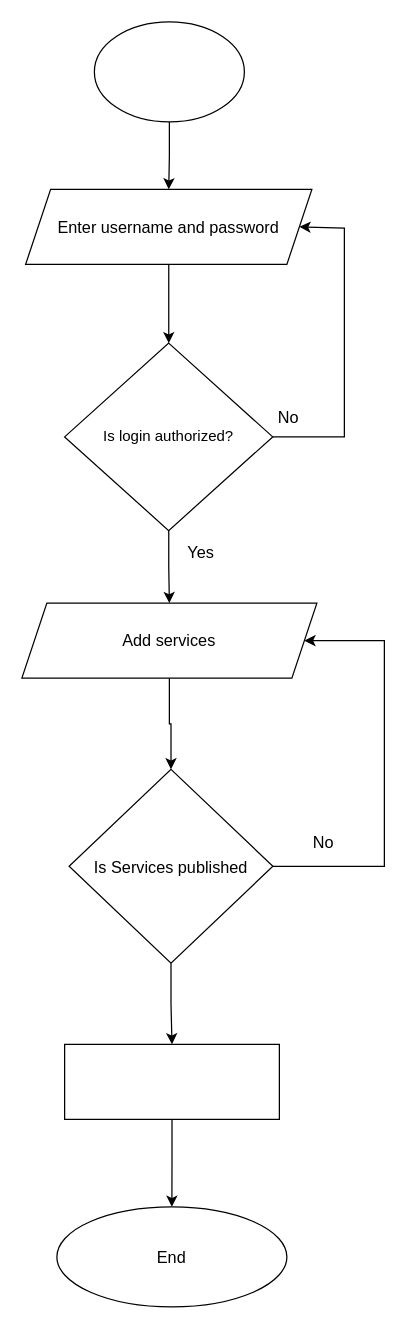
Some shapes in this 416 by 1329 pixel diagram are drawn without their labels. Here are the shapes that lost their labels. From the top down, the centre of each, then its label:
At (168,71): "Start".
At (171,1081): "Reservatrions".
